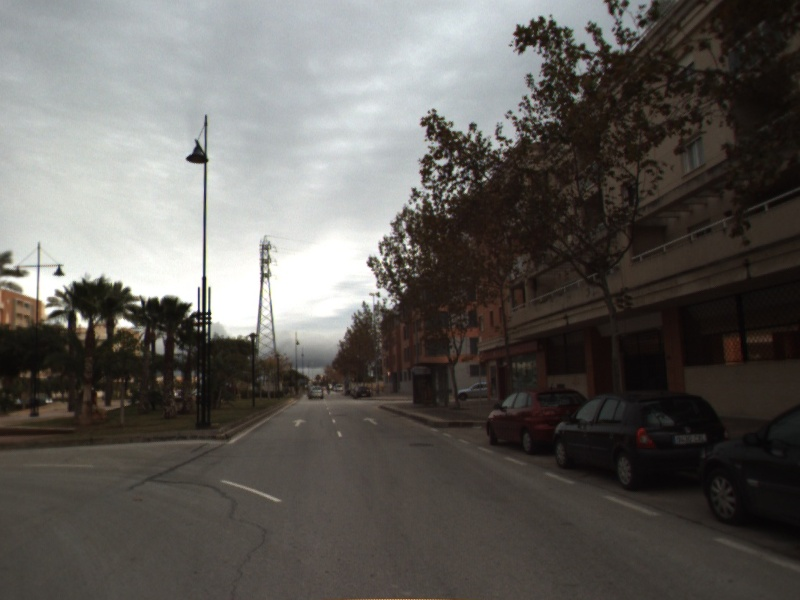STRAIGHT: (291, 417, 309, 429), (362, 415, 380, 427)
